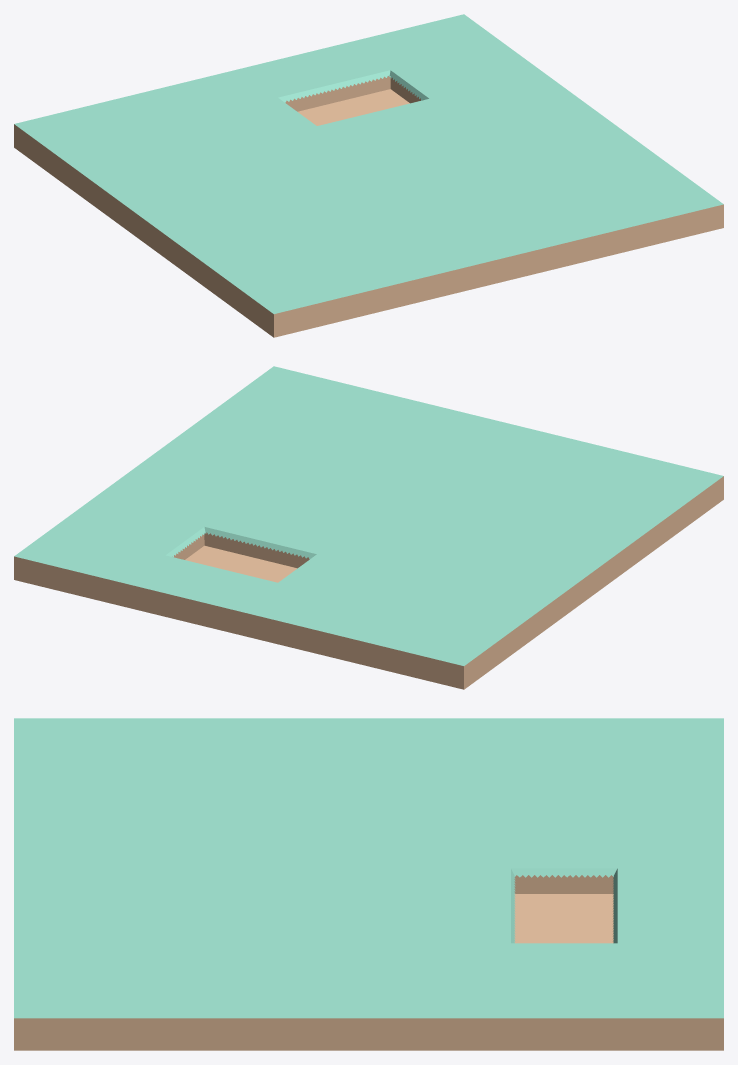
The model's file is new_ground.fbx.
The picture shows the model from 3 angles, top to bottom: view 1: azimuth 30°, elevation 25°; view 2: azimuth 150°, elevation 25°; view 3: azimuth 270°, elevation 25°; orthographic projection. The views are drawn at different scales.
Parts seen in each view (by area): view 1: blocks; view 2: blocks; view 3: blocks.
Part boxes in pixels (left/top/right/bottom): blocks: left=14, top=14, right=723, bottom=337; blocks: left=14, top=366, right=723, bottom=689; blocks: left=14, top=718, right=723, bottom=1050.
Size of the model in its own units: 20 by 1 by 20.
